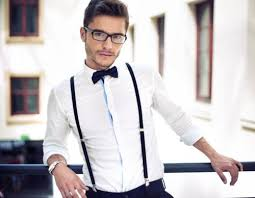F_shirt: (41, 57, 203, 194)
